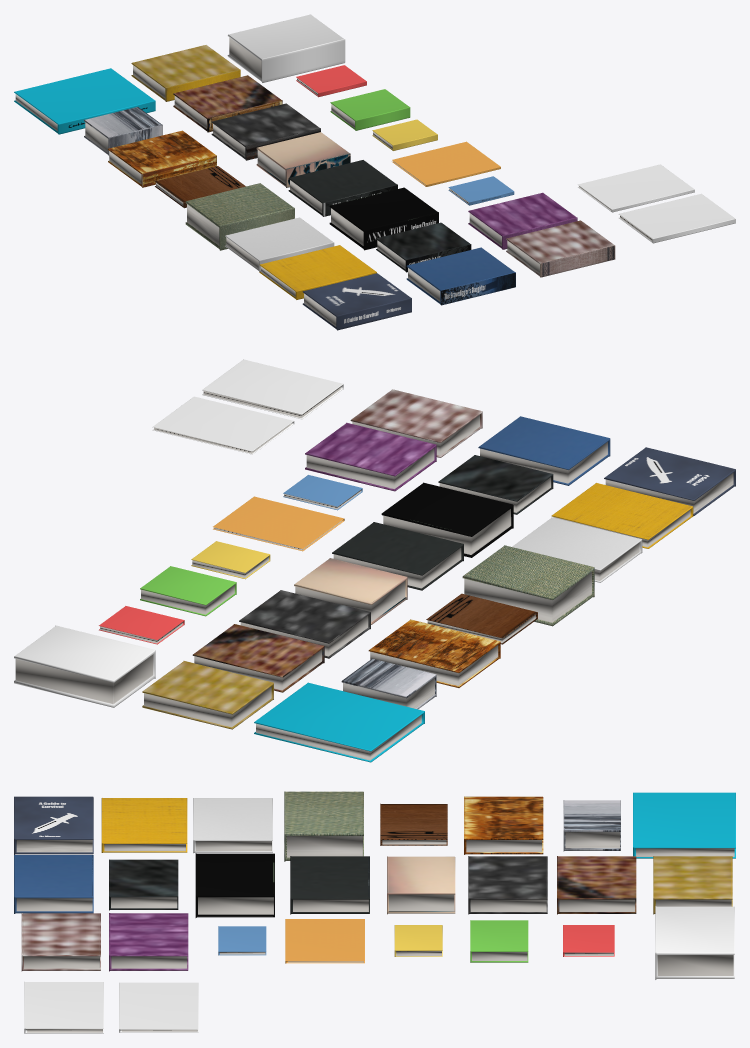
File: AllBooks.fbx
The picture shows the model from 3 angles, top to bottom: view 1: azimuth 30°, elevation 25°; view 2: azimuth 150°, elevation 25°; view 3: azimuth 270°, elevation 25°; orthographic projection. The views are drawn at different scales.
Visible parts, largest first — view 1: BookPam1.001, Book 8.001, Book 4.001, Book 9.001, Book 11.001, BookPlace4.001, Book 1.001, Book 6.001, BookPlace3.001, Book 2.001, Book 12.001, BookPlace1.001 (+14 smaller); view 2: Book 8.001, BookPam1.001, Book 4.001, BookPlace5.001, BookPlace3.001, Book 11.001, Book 9.001, Book 6.001, BookPlace2.001, Book 12.001, Book 1.001, Book 2.001 (+14 smaller); view 3: Book 8.001, BookPam1.001, Book 4.001, Book 11.001, Book 2.001, Book 9.001, Book 1.001, Book 6.001, Book 12.001, BookPlace1.001, BookPlace2.001, BookPlace4.001 (+14 smaller).
Boxes of the visible parts, box(x1,y1,x2,y2) form: BookPam1.001: box(227, 14, 345, 82); Book 8.001: box(14, 68, 155, 134); Book 4.001: box(185, 183, 294, 250); Book 9.001: box(406, 247, 515, 305); Book 11.001: box(329, 187, 438, 250); BookPlace4.001: box(506, 220, 615, 277); Book 1.001: box(302, 273, 411, 330); Book 6.001: box(108, 130, 216, 187); BookPlace3.001: box(131, 45, 240, 101); Book 2.001: box(259, 245, 376, 299); Book 12.001: box(288, 160, 397, 216); BookPlace1.001: box(211, 103, 320, 160); Book 8.001: box(254, 682, 424, 762); BookPam1.001: box(14, 625, 155, 707); Book 4.001: box(462, 545, 594, 626); BookPlace5.001: box(305, 422, 436, 491); BookPlace3.001: box(142, 661, 273, 729); Book 11.001: box(381, 482, 513, 557); Book 9.001: box(478, 416, 610, 485); Book 6.001: box(368, 619, 500, 687); BookPlace2.001: box(192, 624, 324, 692); Book 12.001: box(332, 522, 463, 590); Book 1.001: box(604, 447, 735, 515); Book 2.001: box(551, 483, 693, 548); Book 8.001: box(633, 792, 735, 858); BookPam1.001: box(655, 906, 734, 979); Book 4.001: box(284, 791, 363, 861); Book 11.001: box(195, 853, 274, 917); Book 2.001: box(101, 798, 187, 852); Book 9.001: box(14, 854, 93, 913); Book 1.001: box(14, 796, 93, 854); Book 6.001: box(464, 796, 543, 854); Book 12.001: box(290, 856, 369, 914); BookPlace1.001: box(468, 856, 547, 914); BookPlace2.001: box(557, 856, 636, 914); BookPlace4.001: box(21, 913, 100, 971).
Size of the model in its own units: 183 by 10.59 by 239.
